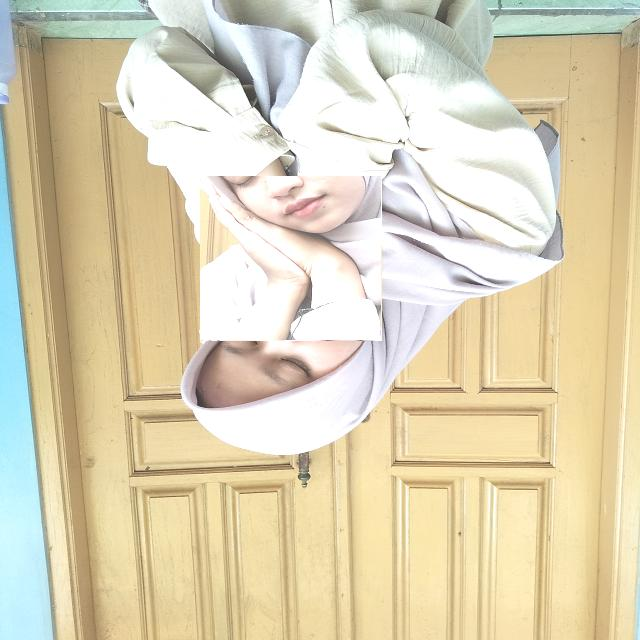tidur: (200, 176, 382, 341)
